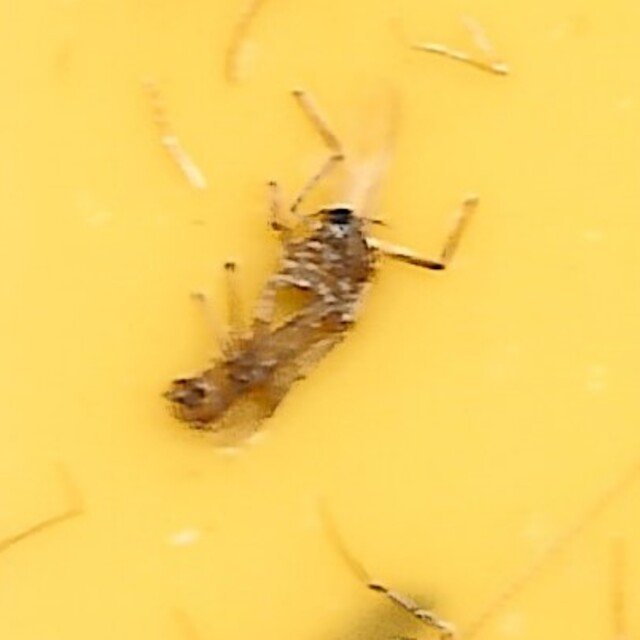Nematocera: (159, 168, 481, 472)
